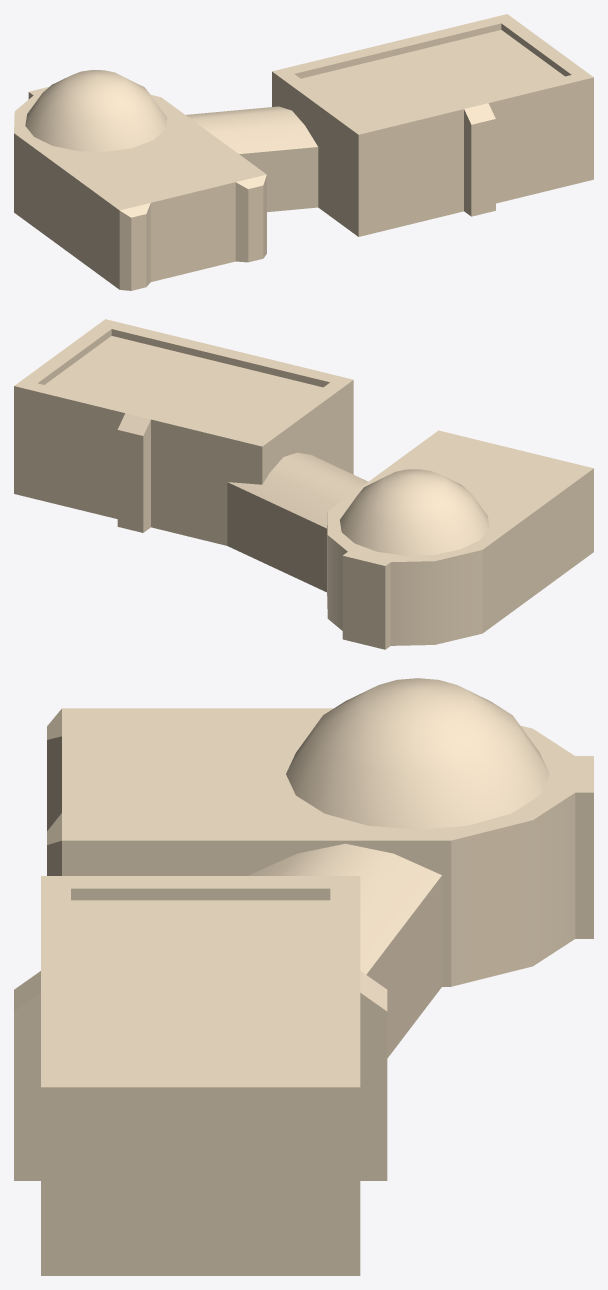
The model's file is house1.glb.
3 renders of one model, top to bottom at view 1: azimuth 30°, elevation 25°; view 2: azimuth 150°, elevation 25°; view 3: azimuth 270°, elevation 25°, orthographic. The views are drawn at different scales.
Visible parts, largest first — view 1: House1; view 2: House1; view 3: House1.
Boxes of the visible parts, x1,y1,x2,y2 form: House1: (14, 14, 593, 290); House1: (14, 319, 593, 649); House1: (14, 678, 593, 1275).
Bounding box in the file's own units: 93.51 × 23.73 × 54.39.
